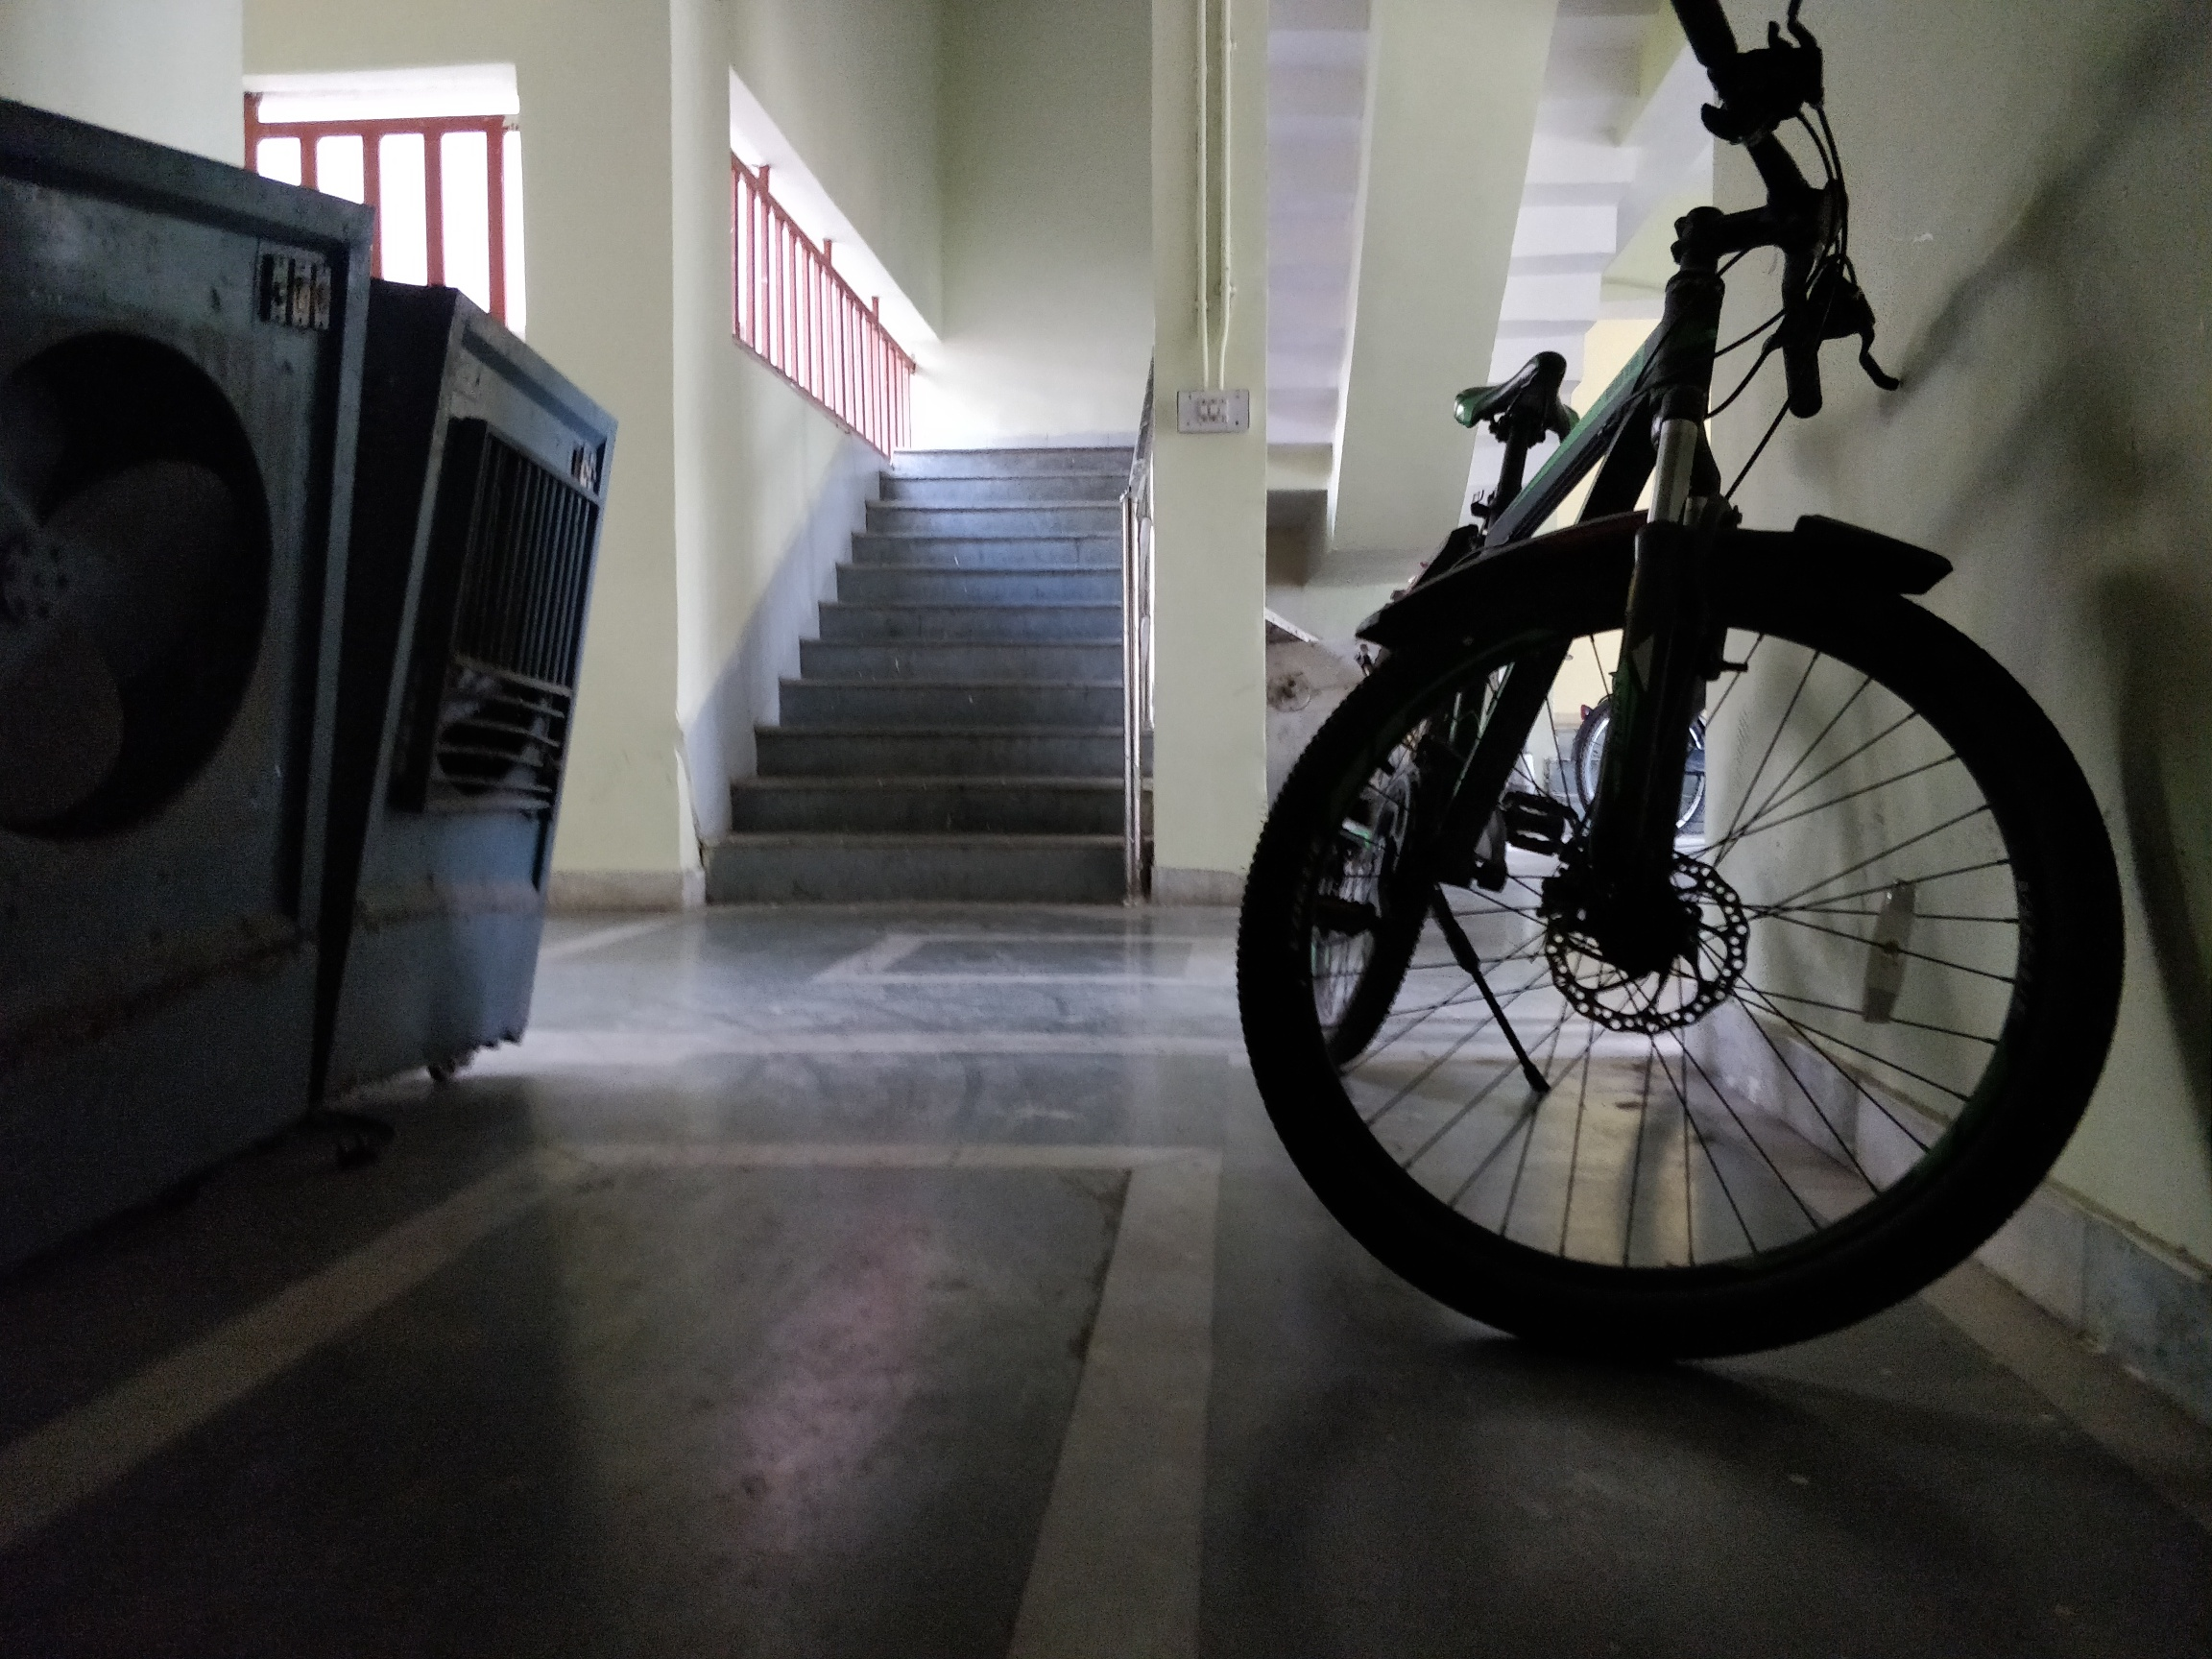stairs_up: (702, 439, 1141, 922)
